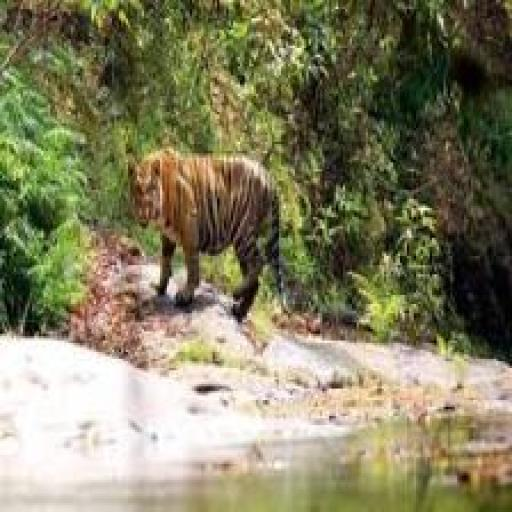Tiger: (133, 149, 283, 321)
